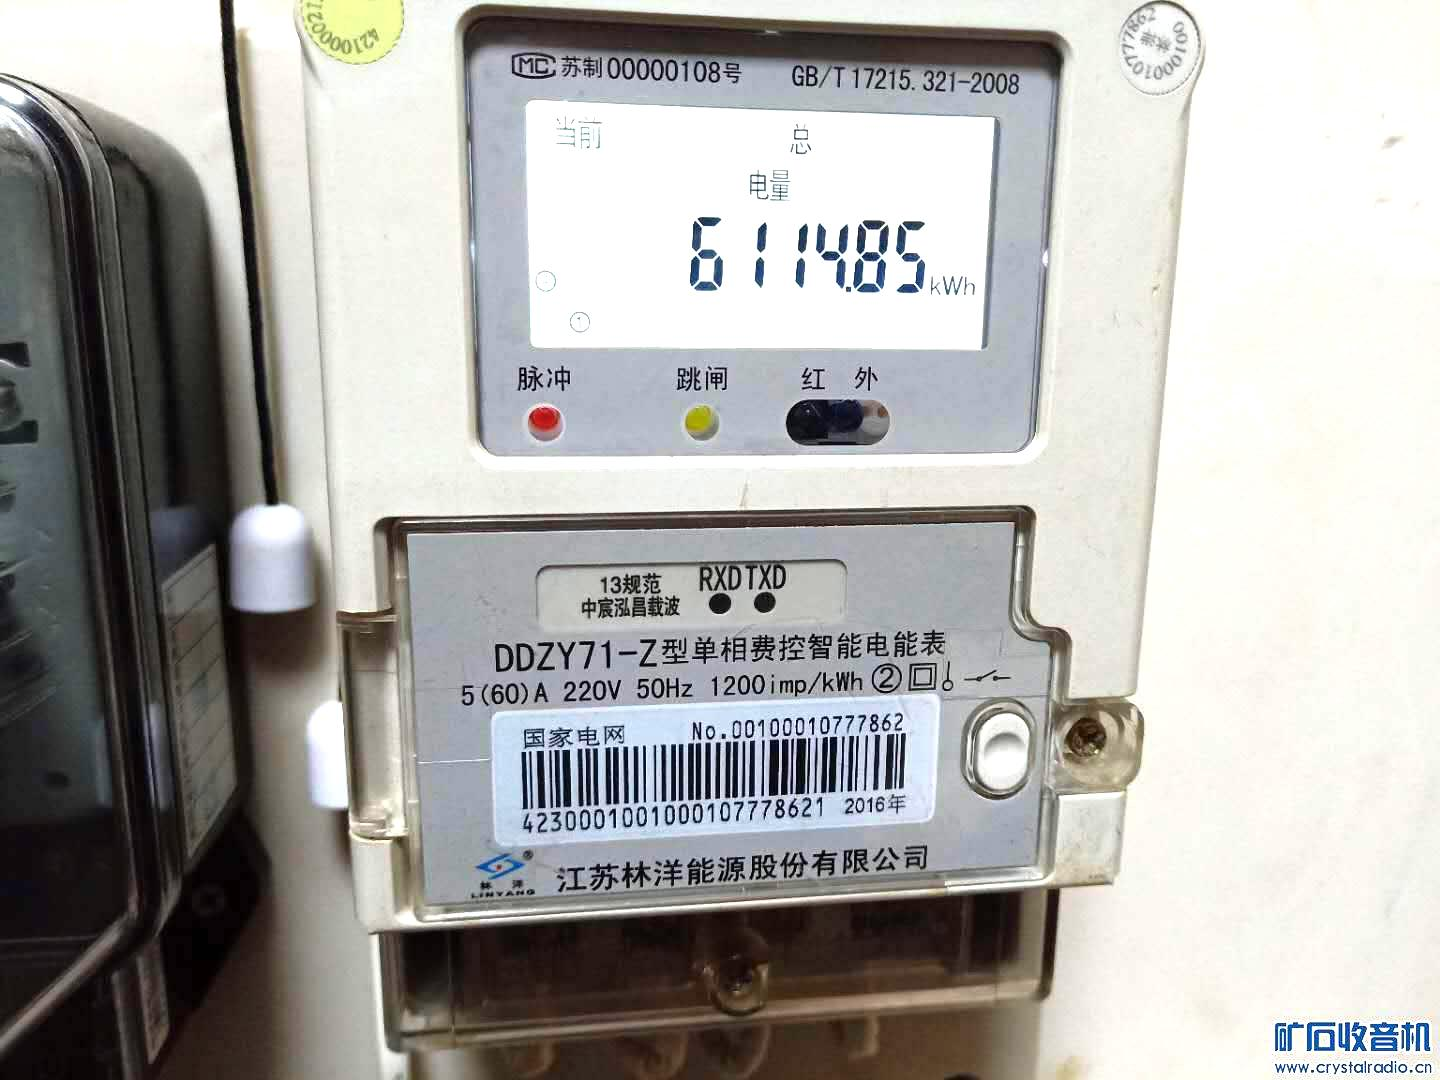digital: (297, 1, 1197, 929)
